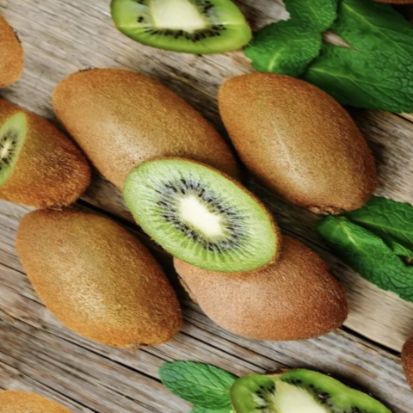kiwi: (10, 33, 270, 247), (125, 178, 373, 386), (179, 34, 413, 241), (0, 171, 224, 383)
